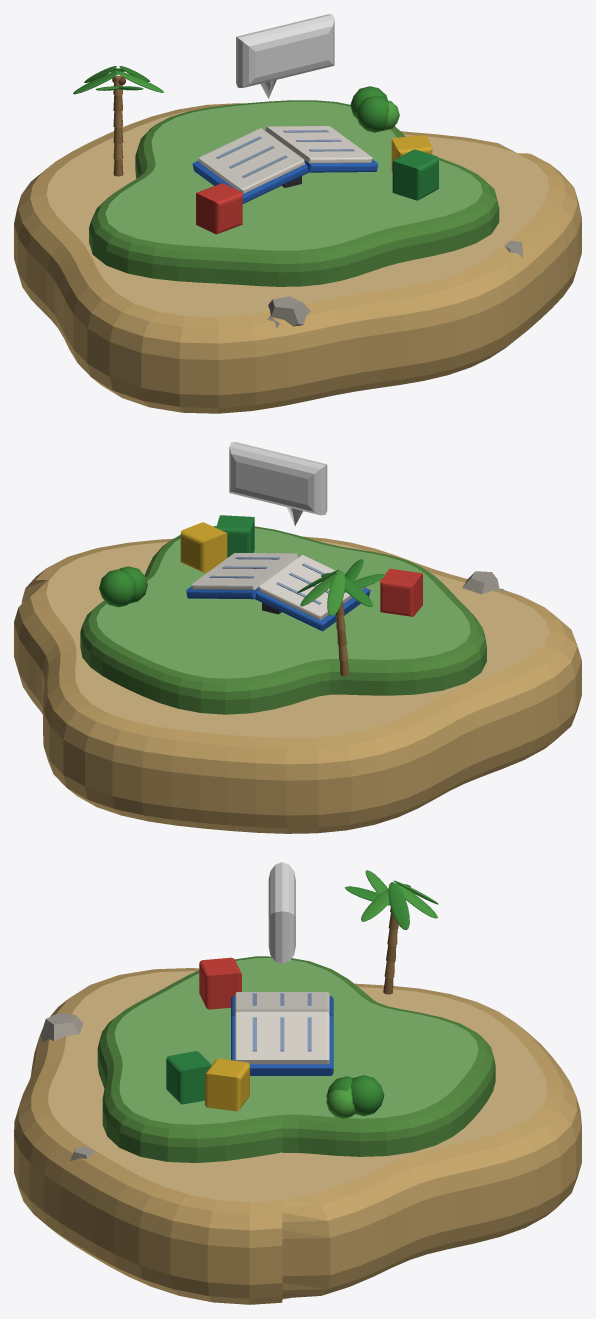
Rendered from english.glb.
The picture shows the model from 3 angles, top to bottom: view 1: azimuth 30°, elevation 25°; view 2: azimuth 150°, elevation 25°; view 3: azimuth 270°, elevation 25°; orthographic projection. The views are drawn at different scales.
Visible parts, largest first — view 1: part_000, part_002, part_004, part_005, part_006, part_007; view 2: part_000, part_002, part_004, part_005, part_006, part_007; view 3: part_000, part_002, part_005, part_004, part_006, part_007.
Boxes of the visible parts, x1,y1,x2,y2 form: part_000: [14, 100, 581, 413]; part_002: [192, 126, 438, 234]; part_004: [236, 14, 334, 98]; part_005: [73, 66, 163, 176]; part_006: [350, 86, 399, 132]; part_007: [267, 296, 310, 328]; part_000: [14, 526, 581, 833]; part_002: [180, 515, 422, 631]; part_004: [229, 442, 327, 525]; part_005: [297, 559, 385, 675]; part_006: [99, 566, 147, 607]; part_007: [462, 571, 505, 594]; part_000: [14, 956, 581, 1304]; part_002: [166, 957, 333, 1111]; part_005: [345, 870, 438, 994]; part_004: [268, 862, 295, 963]; part_006: [326, 1075, 384, 1118]; part_007: [40, 1012, 83, 1042].
Bounding box in the file's own units: 8.99 × 4.72 × 8.29.
